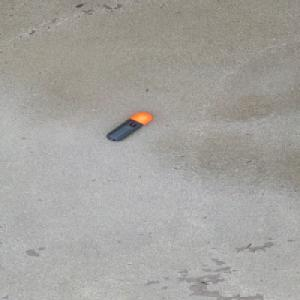PlasticPart: (105, 111, 153, 141)
